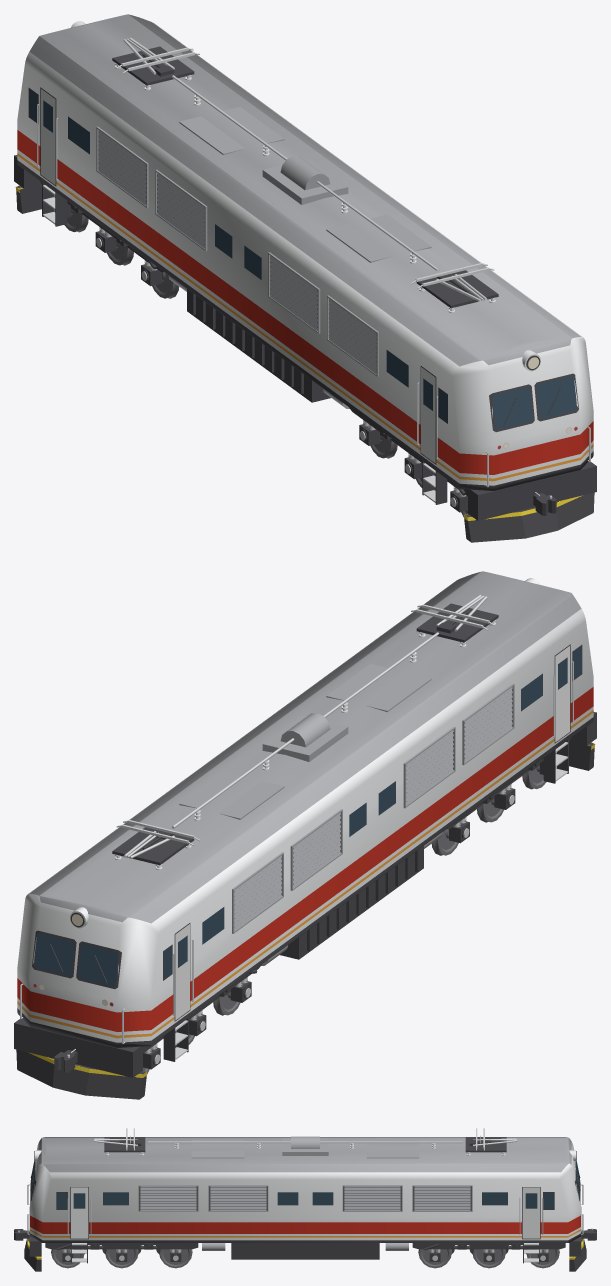
The model's file is 394_close.fbx.
3 views of the same model, one above another, from view 1: azimuth 30°, elevation 25°; view 2: azimuth 150°, elevation 25°; view 3: azimuth 270°, elevation 25° (orthographic). The views are drawn at different scales.
Visible parts, largest first — view 1: 394_close; view 2: 394_close; view 3: 394_close.
Boxes of the visible parts, <box> form: 394_close: <box>14,14,596,542</box>; 394_close: <box>14,571,596,1099</box>; 394_close: <box>14,1128,596,1271</box>.
Bounding box in the file's own units: 3.23 × 4.59 × 20.
